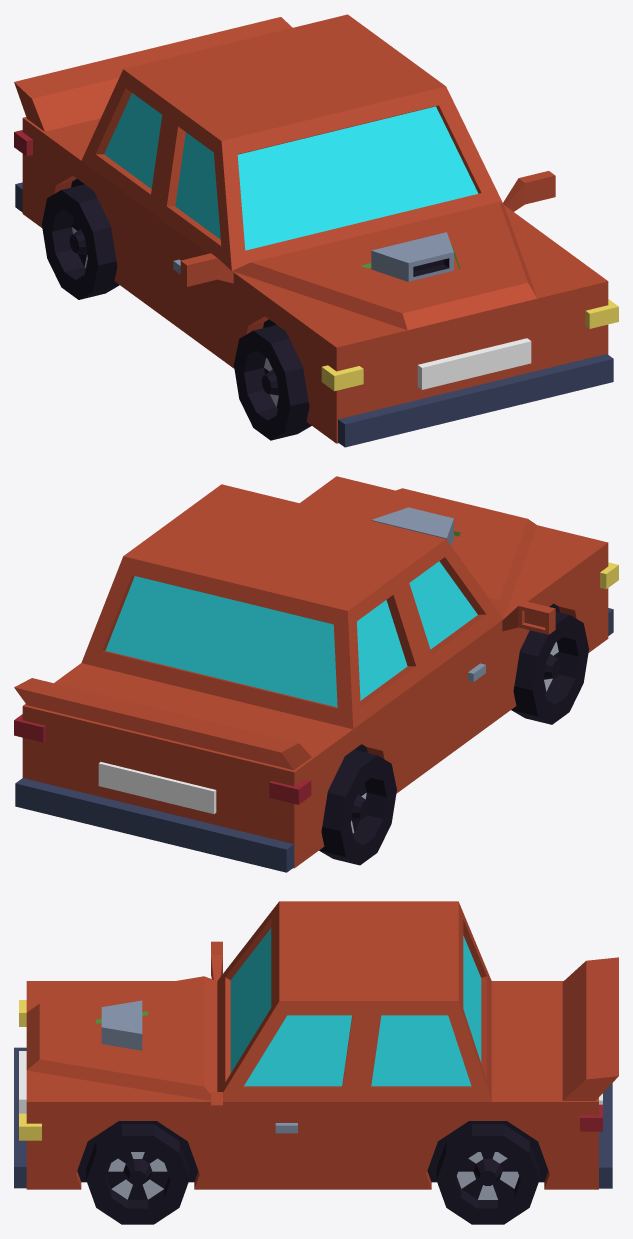
The model's file is car10.fbx.
3 views of the same model, one above another, from view 1: azimuth 30°, elevation 25°; view 2: azimuth 150°, elevation 25°; view 3: azimuth 270°, elevation 25° (orthographic). The views are drawn at different scales.
Visible parts, largest first — view 1: car-sport-orange; view 2: car-sport-orange; view 3: car-sport-orange.
Boxes of the visible parts, box(x1,y1,x2,y2) form: car-sport-orange: box(14, 14, 618, 447); car-sport-orange: box(14, 476, 618, 872); car-sport-orange: box(14, 901, 618, 1224).
Bounding box in the file's own units: 2.71 × 1.6 × 4.23.
